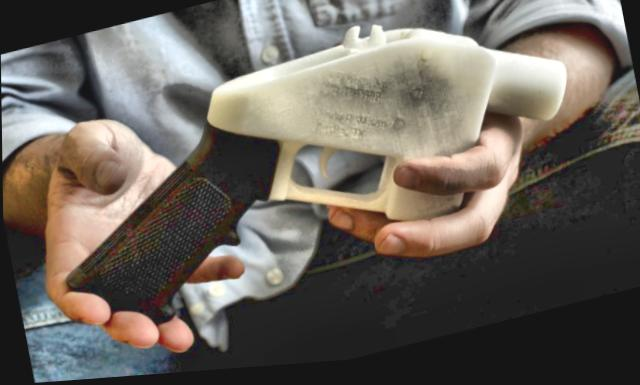pistol: (28, 0, 596, 354)
